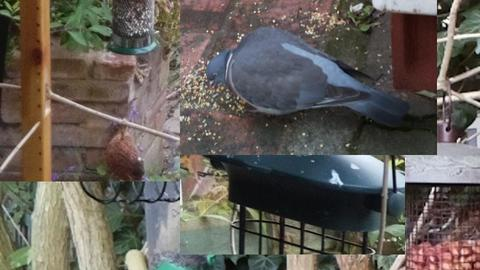wood pigeon: (205, 25, 412, 130)
